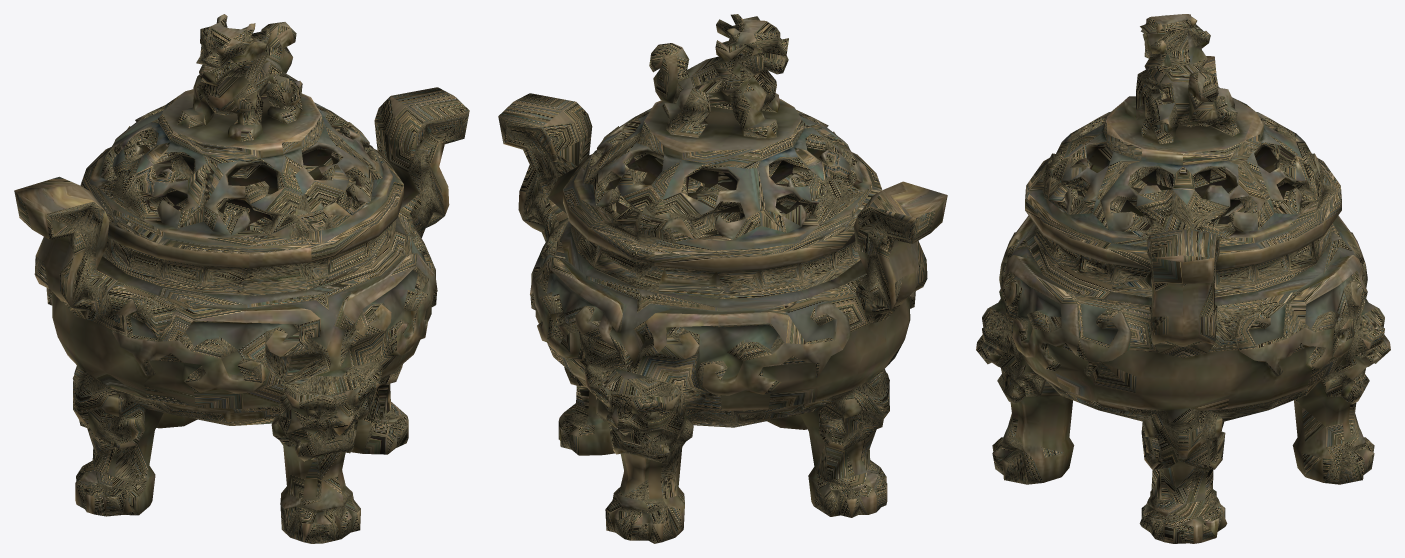
File: prop_lu_huong.42ef1183f6.glb
The picture shows the model from 3 angles, left to right: view 1: azimuth 30°, elevation 25°; view 2: azimuth 150°, elevation 25°; view 3: azimuth 270°, elevation 25°; orthographic projection. The views are drawn at different scales.
Visible parts, largest first — view 1: prop_lu_huong; view 2: prop_lu_huong; view 3: prop_lu_huong.
Part boxes in pixels (x1,y1,x2,y2): prop_lu_huong: [14, 14, 469, 543]; prop_lu_huong: [498, 14, 947, 543]; prop_lu_huong: [976, 14, 1390, 543].
Size of what is drawn, in the model's own units: 1.78 by 1.8 by 1.52.
1 material, 1 textured.
